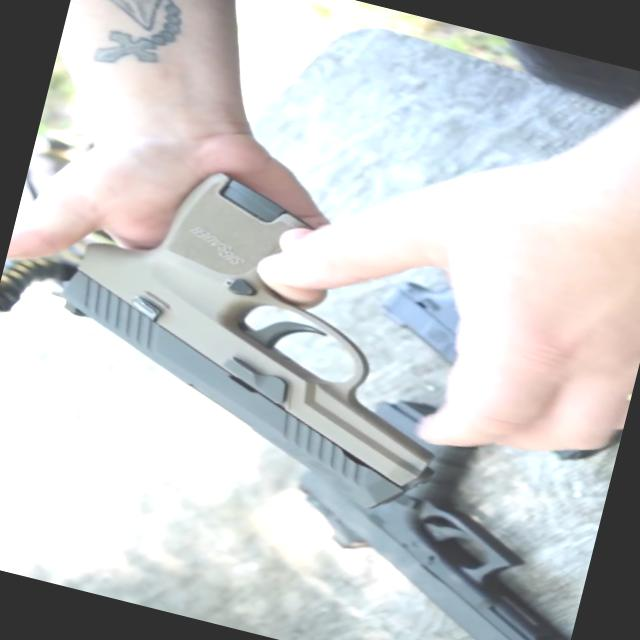handgun: (29, 124, 528, 564), (263, 366, 616, 639), (339, 203, 639, 494)
